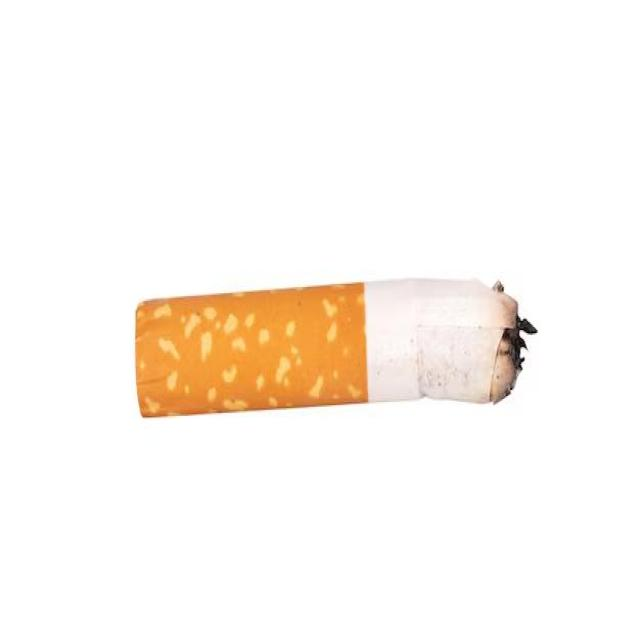cigarette: (134, 279, 531, 422)
